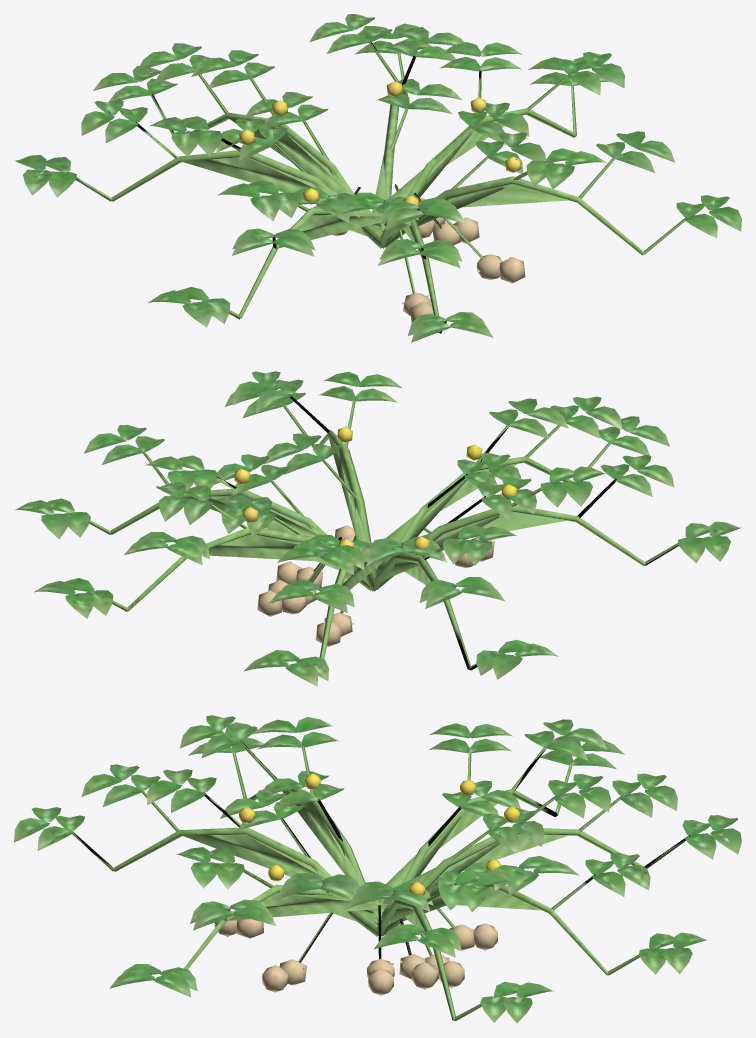
Rendered from cacahuate.glb.
The picture shows the model from 3 angles, top to bottom: view 1: azimuth 30°, elevation 25°; view 2: azimuth 150°, elevation 25°; view 3: azimuth 270°, elevation 25°; orthographic projection. The views are drawn at different scales.
Visible parts, largest first — view 1: cacahuate, cacahuate_lp; view 2: cacahuate, cacahuate_lp; view 3: cacahuate, cacahuate_lp.
Part boxes in pixels (left/top/right/bottom): cacahuate: left=15, top=14, right=741, bottom=342; cacahuate_lp: left=112, top=42, right=628, bottom=319; cacahuate: left=15, top=371, right=741, bottom=686; cacahuate_lp: left=111, top=401, right=678, bottom=664; cacahuate: left=14, top=715, right=741, bottom=1023; cacahuate_lp: left=73, top=749, right=685, bottom=1020.
Bounding box in the file's own units: 0.5955 × 0.1372 × 0.6263.
Materials: 2 (2 with a texture image).
